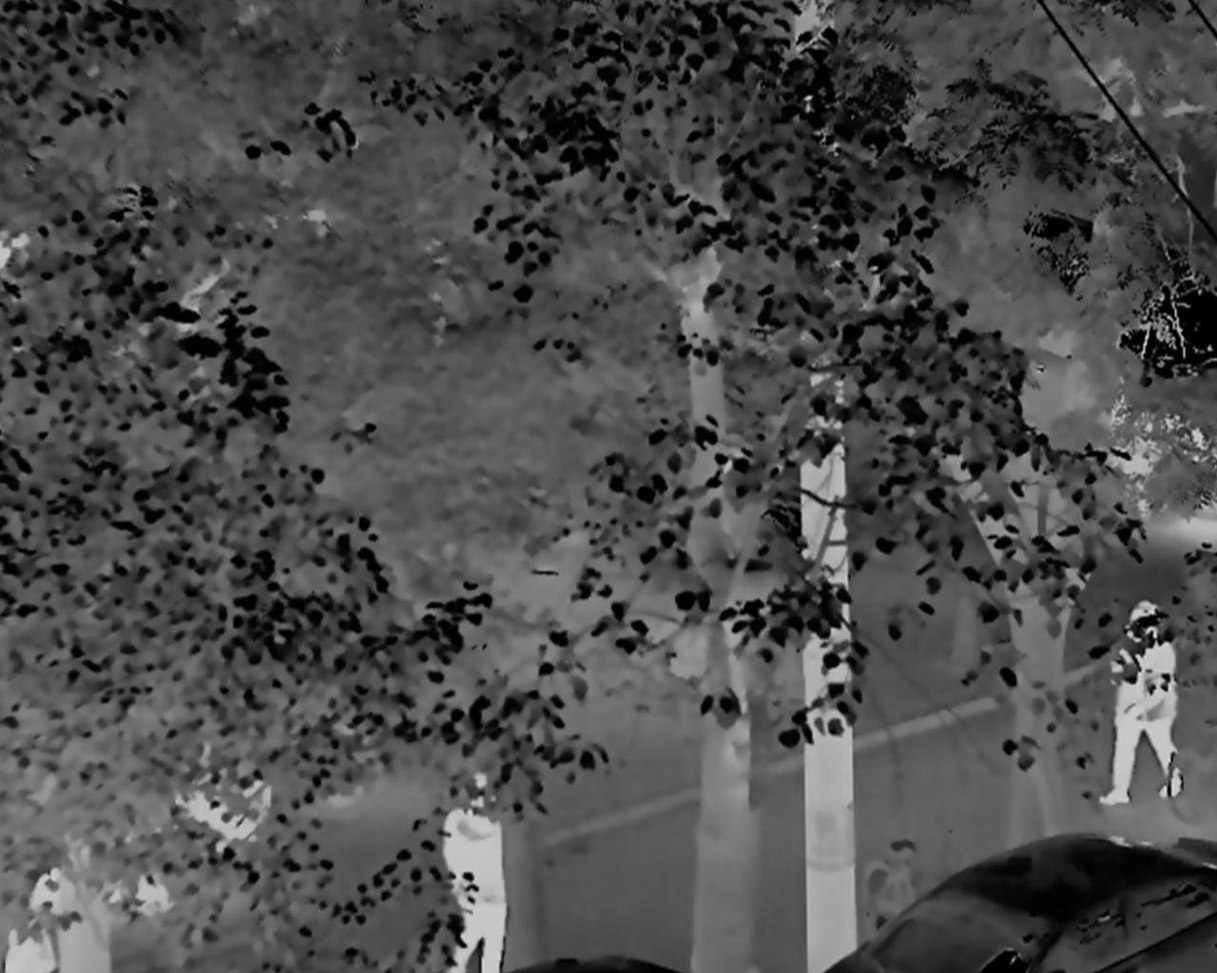person: (1107, 599, 1185, 813), (445, 771, 510, 973)
